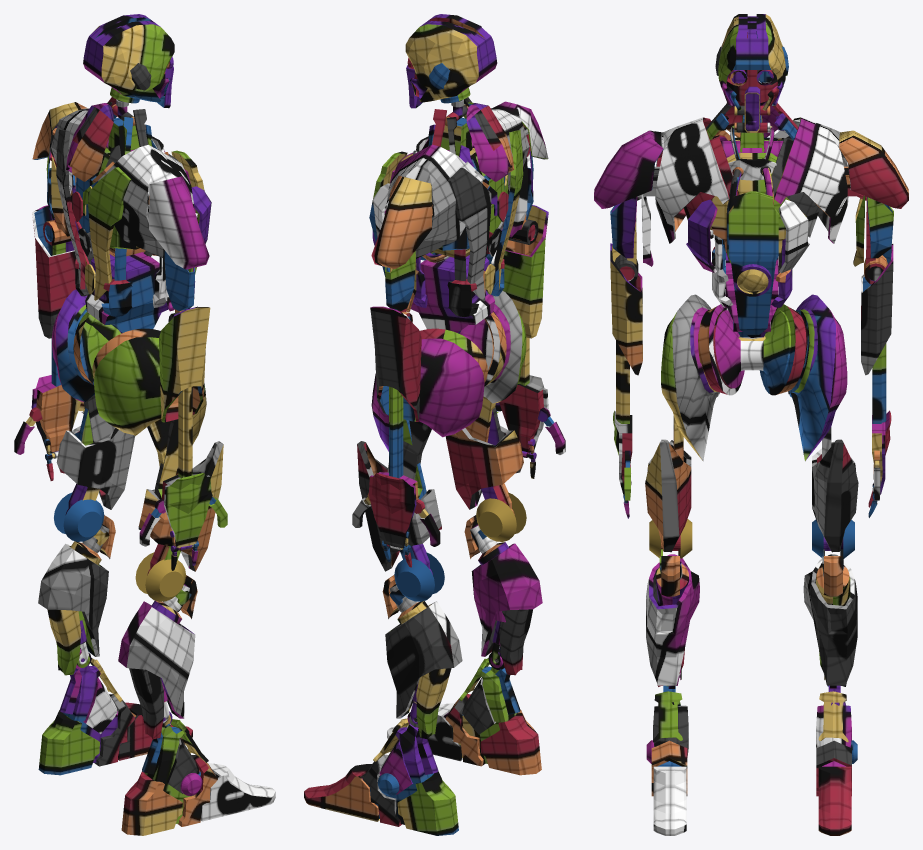
File: droid export.fbx
3 views of the same model, side by side, from view 1: azimuth 30°, elevation 25°; view 2: azimuth 150°, elevation 25°; view 3: azimuth 270°, elevation 25° (orthographic).
Parts seen in each view (by area): view 1: SM_Torso, SM_RightUpperLeg, SM_LeftUpperLeg, SM_RightFoot, SM_LeftFoot, SM_RightLowerLeg, SM_LeftLowerLeg, SM_Head, SM_RightForeArm, SM_RightUpperArm, SM_RightHand, SM_LeftForeArm (+3 smaller); view 2: SM_Torso, SM_LeftUpperLeg, SM_RightUpperLeg, SM_LeftFoot, SM_RightFoot, SM_LeftLowerLeg, SM_RightLowerLeg, SM_Head, SM_LeftForeArm, SM_LeftUpperArm, SM_RightForeArm, SM_LeftHand (+3 smaller); view 3: SM_Torso, SM_LeftUpperLeg, SM_RightUpperLeg, SM_Hip, SM_Head, SM_LeftUpperArm, SM_RightUpperArm, SM_RightLowerLeg, SM_LeftLowerLeg, SM_RightFoot, SM_LeftFoot, SM_LeftForeArm (+3 smaller).
Part boxes in pixels (x1,y1,x2,y2): SM_Torso: [51, 97, 211, 333]; SM_RightUpperLeg: [94, 337, 223, 605]; SM_LeftUpperLeg: [52, 289, 135, 545]; SM_RightFoot: [121, 711, 275, 835]; SM_LeftFoot: [38, 648, 192, 775]; SM_RightLowerLeg: [118, 575, 197, 739]; SM_LeftLowerLeg: [38, 515, 115, 675]; SM_Head: [83, 14, 174, 108]; SM_RightForeArm: [159, 306, 210, 478]; SM_RightUpperArm: [147, 176, 209, 312]; SM_RightHand: [139, 472, 227, 570]; SM_LeftForeArm: [32, 205, 79, 386]; SM_Torso: [369, 97, 529, 333]; SM_LeftUpperLeg: [357, 338, 484, 605]; SM_RightUpperLeg: [445, 291, 526, 541]; SM_LeftFoot: [304, 712, 458, 835]; SM_RightFoot: [387, 649, 541, 775]; SM_LeftLowerLeg: [382, 575, 462, 739]; SM_RightLowerLeg: [464, 515, 542, 675]; SM_Head: [405, 14, 497, 108]; SM_LeftForeArm: [370, 306, 421, 478]; SM_LeftUpperArm: [371, 176, 432, 312]; SM_RightForeArm: [501, 205, 548, 385]; SM_LeftHand: [352, 472, 440, 567]; SM_Torso: [655, 101, 848, 337]; SM_LeftUpperLeg: [788, 294, 858, 573]; SM_RightUpperLeg: [645, 294, 719, 573]; SM_Hip: [698, 304, 806, 395]; SM_Head: [715, 14, 788, 132]; SM_LeftUpperArm: [839, 130, 908, 266]; SM_RightUpperArm: [594, 130, 663, 266]; SM_RightLowerLeg: [646, 554, 699, 686]; SM_LeftLowerLeg: [803, 554, 857, 686]; SM_RightFoot: [646, 673, 688, 835]; SM_LeftFoot: [816, 685, 857, 835]; SM_LeftForeArm: [861, 243, 893, 423].
Size of the model in its own units: 13.25 by 59.88 by 22.3.
